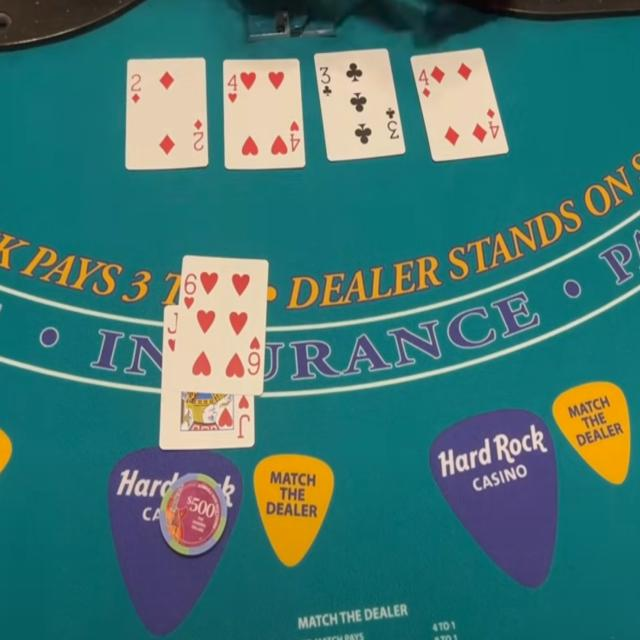2: (130, 70, 144, 94)
3: (318, 65, 332, 85)
4: (225, 70, 240, 92), (417, 68, 431, 86)
6: (183, 270, 197, 296)
J: (165, 310, 180, 335)
